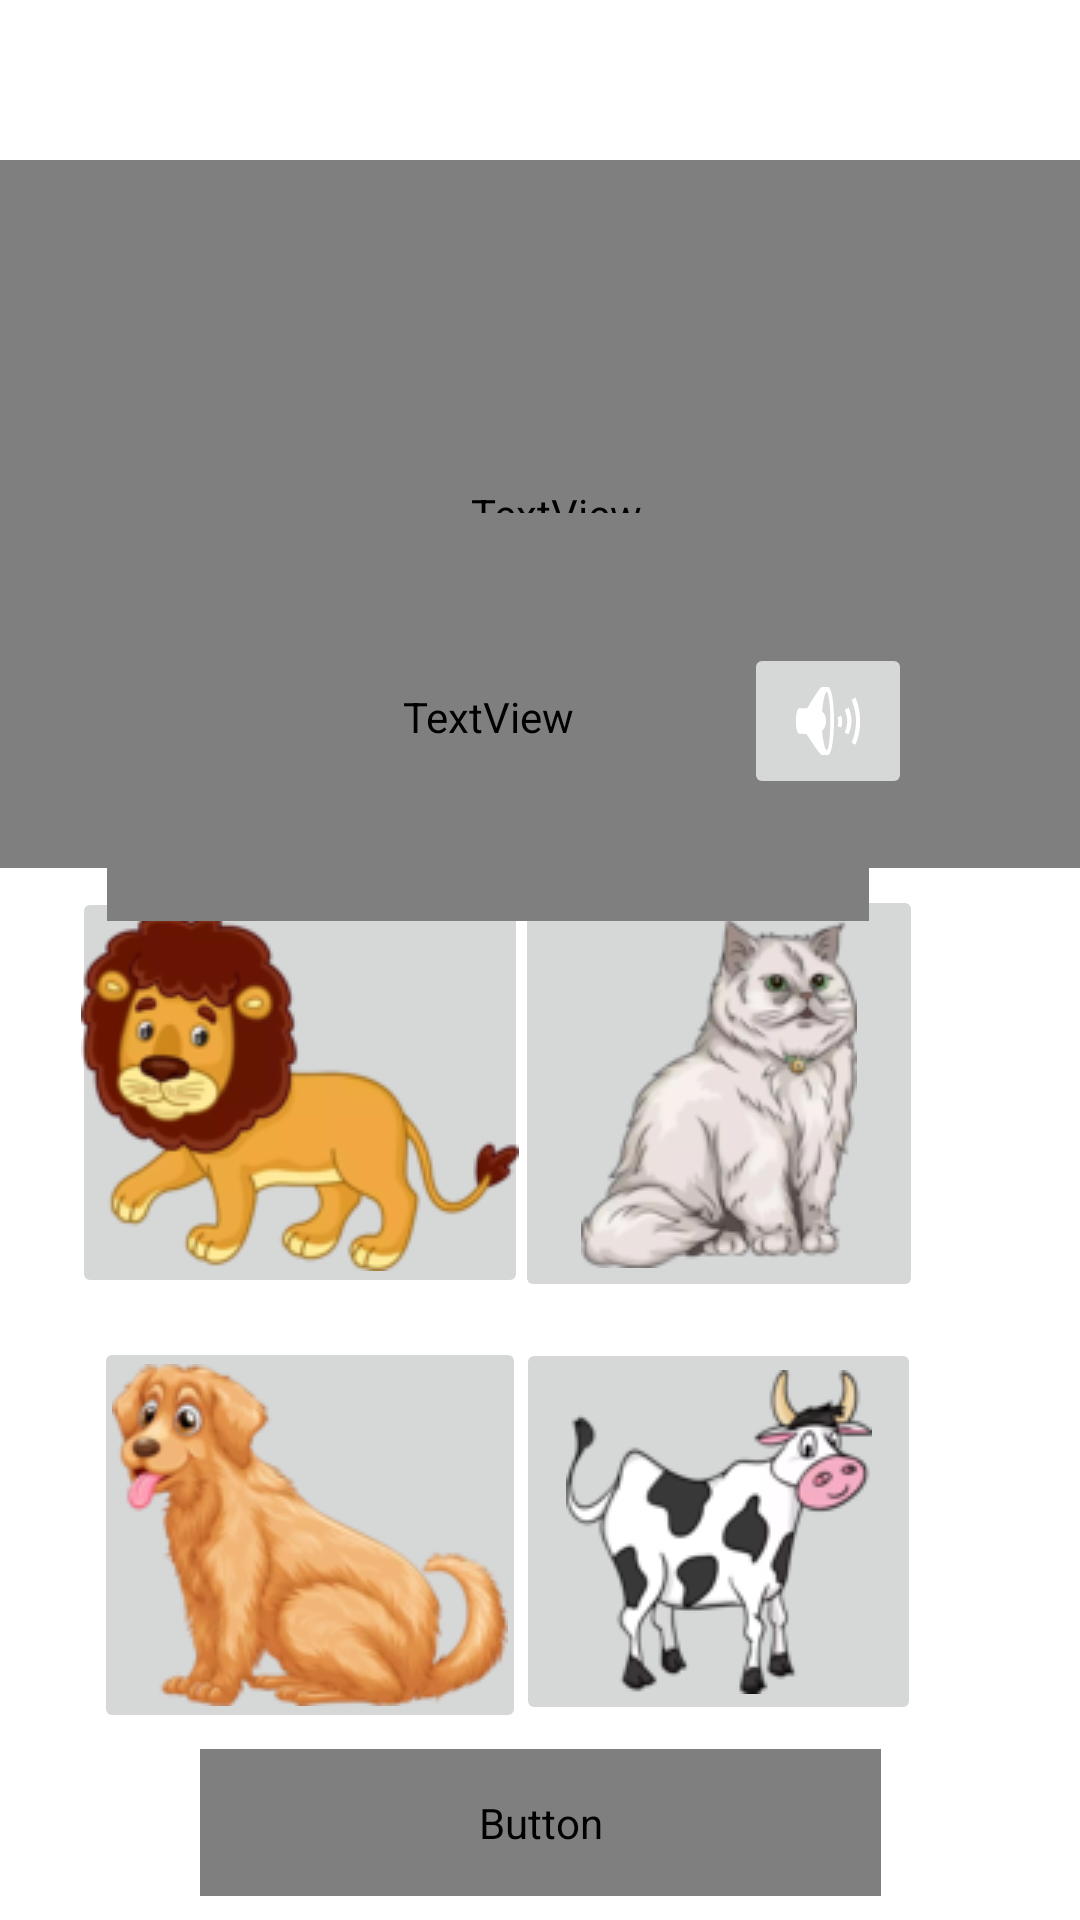

Screen size 1080w x 1920h. Icon name, then its center in pixels as [x,y]:
lock silent mode off: [828,721]
